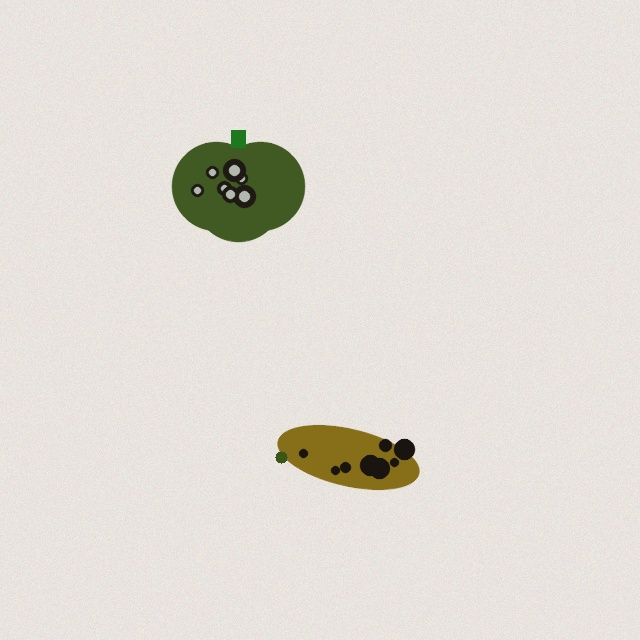Rotten banana: (273, 422, 423, 492)
Rotten bell pepper: (172, 130, 304, 241)
